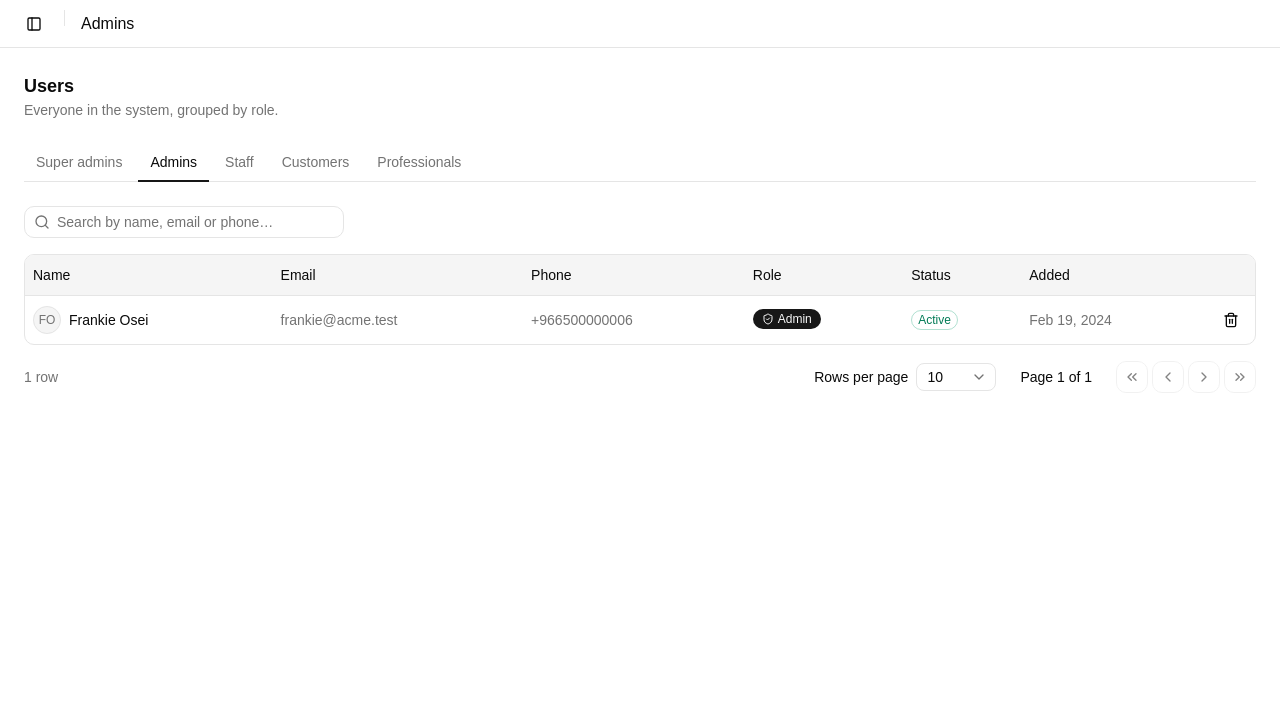
row detail modal › does not open the modal when a row action is clicked
This screenshot has width=1280, height=720.
Check: the text "Frankie Osei" is shown, box [69,310,148,330]
Click the button named "delete frankie osei". click: (1231, 320)
box: [1215,304,1247,336]
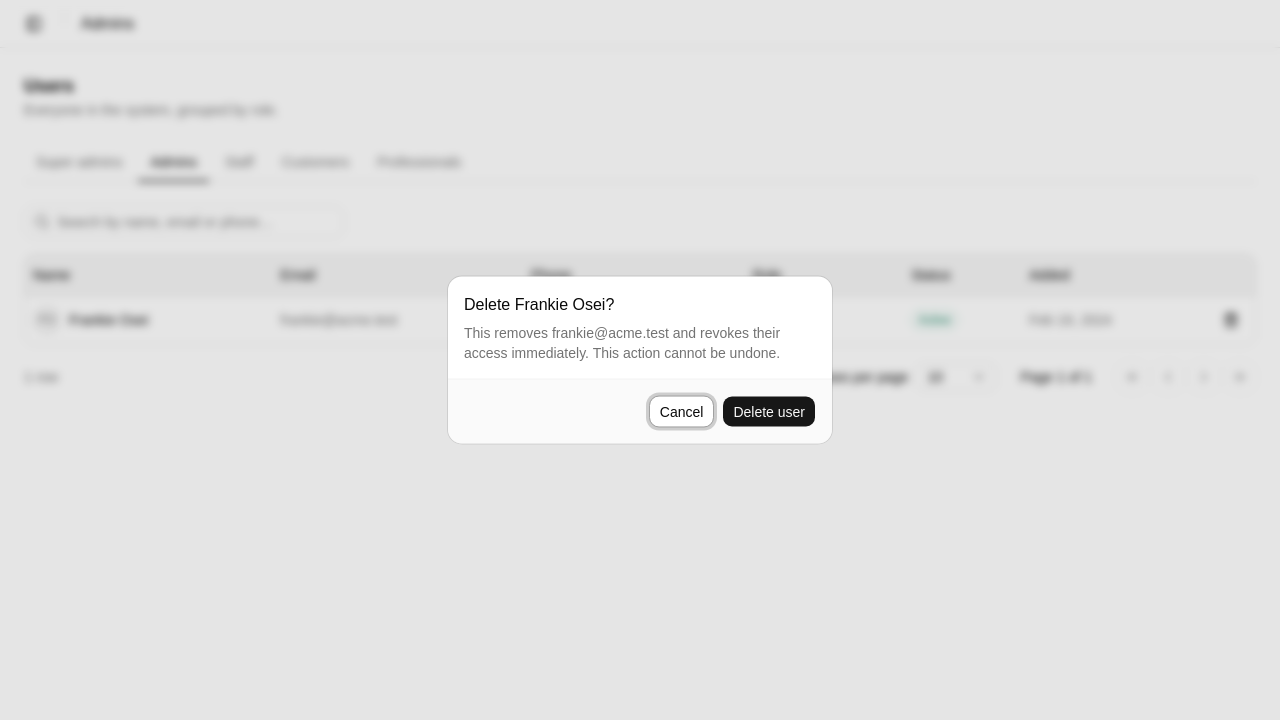
Check: the dialog is shown, box [448,276,832,444]
